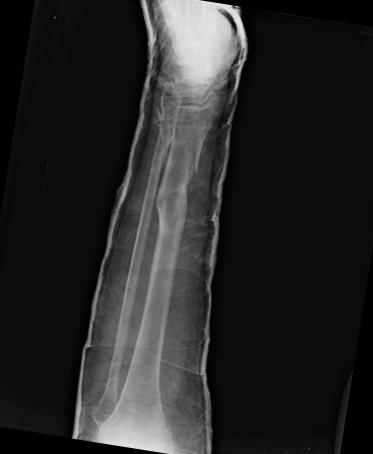fractured: (154, 184, 188, 225), (154, 105, 178, 149), (185, 134, 197, 178)
